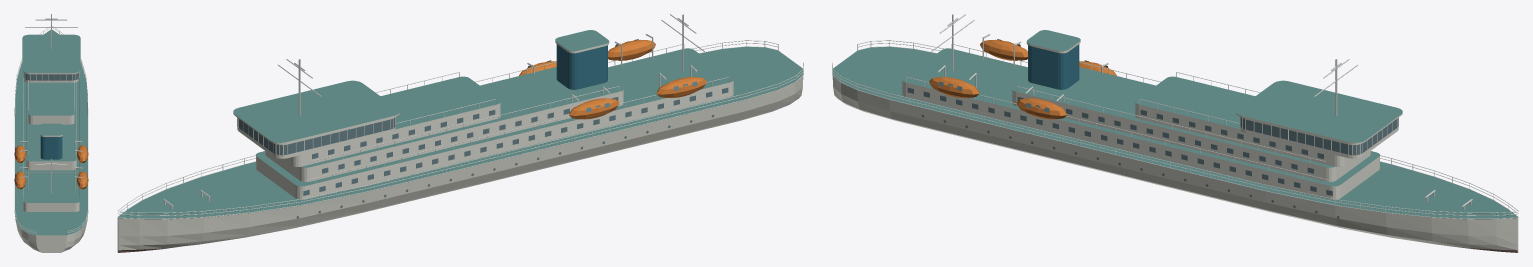
The picture shows the model from 3 angles, left to right: view 1: azimuth 30°, elevation 25°; view 2: azimuth 150°, elevation 25°; view 3: azimuth 270°, elevation 25°; orthographic projection. The views are drawn at different scales.
Visible parts, largest first — view 1: facility_training-ship-hanbada; view 2: facility_training-ship-hanbada; view 3: facility_training-ship-hanbada.
Boxes of the visible parts, <box> form: facility_training-ship-hanbada: <box>14,14,88,252</box>; facility_training-ship-hanbada: <box>117,14,803,252</box>; facility_training-ship-hanbada: <box>832,14,1518,252</box>.
Size of the model in its own units: 63.52 by 24.72 by 103.
